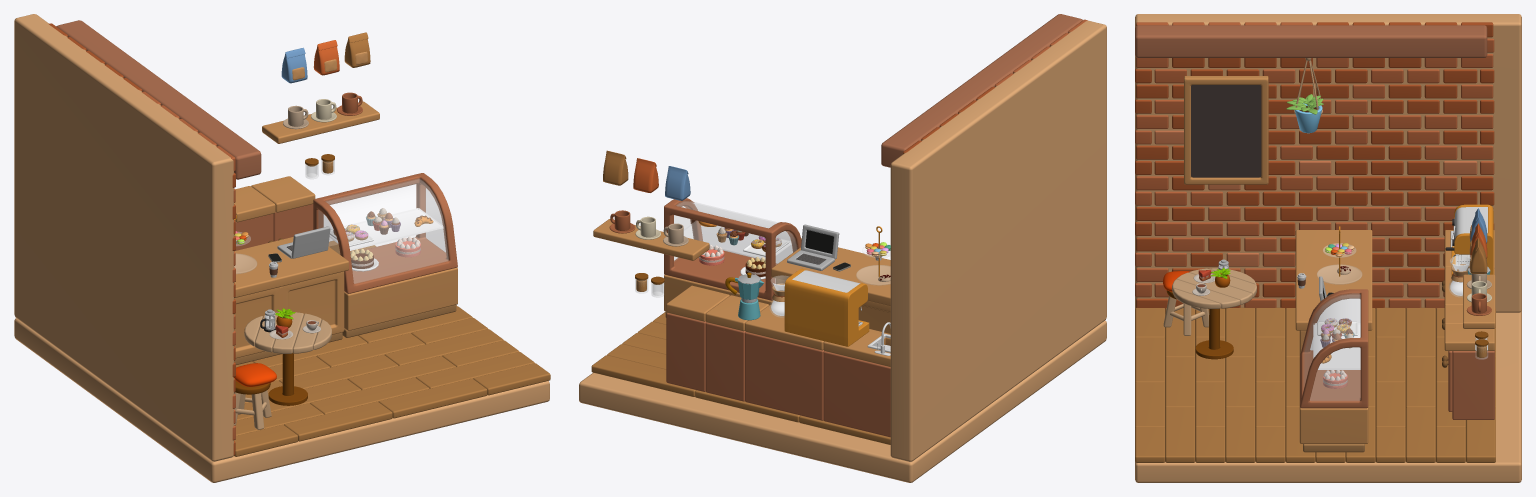
File: cozy_coffee_shop.glb
3 renders of one model, left to right at view 1: azimuth 30°, elevation 25°; view 2: azimuth 150°, elevation 25°; view 3: azimuth 270°, elevation 25°, orthographic. The views are drawn at different scales.
Parts seen in each view (by area): view 1: SM_wall, SM_plank_floor, SM_showcase_cabinet, SM_floor, SM_service_counter, SM_wooden_beam, SM_table, SM_cabinet_Right, SM_cabinet_Left, SM_shelves, SM_brick_wall, SM_stool (+5 smaller); view 2: SM_wall, SM_floor, SM_showcase_cabinet, SM_cabinet_double_door, SM_cabinet_sink, SM_espresso_machine, SM_plank_floor, SM_wooden_beam, SM_cabinet_Right, SM_cabinet_Left, SM_service_counter, SM_shelves (+8 smaller); view 3: SM_brick_wall, SM_plank_floor, SM_wall, SM_floor, SM_wooden_beam, SM_showcase_cabinet, SM_menu_board, SM_service_counter, SM_cabinet_Right, SM_table, SM_espresso_machine, SM_shelves (+7 smaller).
Part boxes in pixels (x1,y1,x2,y2): SM_wall: (14,14,233,461); SM_plank_floor: (234,244,550,456); SM_showcase_cabinet: (313,173,457,337); SM_floor: (14,240,549,482); SM_service_counter: (234,237,348,364); SM_wooden_beam: (56,20,261,179); SM_table: (244,312,331,405); SM_cabinet_Right: (251,176,315,241); SM_cabinet_Left: (234,186,275,250); SM_shelves: (262,101,379,143); SM_brick_wall: (49,23,235,455); SM_stool: (234,381,271,429); SM_wall: (890,20,1106,461); SM_floor: (579,320,1106,482); SM_showcase_cabinet: (664,198,801,317); SM_cabinet_double_door: (745,305,824,420); SM_cabinet_sink: (823,329,890,437); SM_espresso_machine: (784,268,869,346); SM_plank_floor: (591,238,890,444); SM_wooden_beam: (881,14,1082,167); SM_cabinet_Right: (666,285,729,391); SM_cabinet_Left: (705,295,768,401); SM_service_counter: (771,247,890,333); SM_shelves: (593,219,709,260); SM_brick_wall: (1135,22,1494,308); SM_plank_floor: (1135,307,1495,462); SM_wall: (1135,14,1521,312); SM_floor: (1135,310,1521,482); SM_wooden_beam: (1135,25,1487,57); SM_showcase_cabinet: (1299,289,1368,452); SM_menu_board: (1184,76,1268,184); SM_service_counter: (1295,230,1372,357); SM_cabinet_Right: (1442,324,1494,419); SM_table: (1172,268,1256,359); SM_espresso_machine: (1451,204,1493,281); SM_shelves: (1463,274,1495,328).
Size of the model in its own units: 4.79 by 4.35 by 4.89.
Materials: 3 (3 with a texture image).
